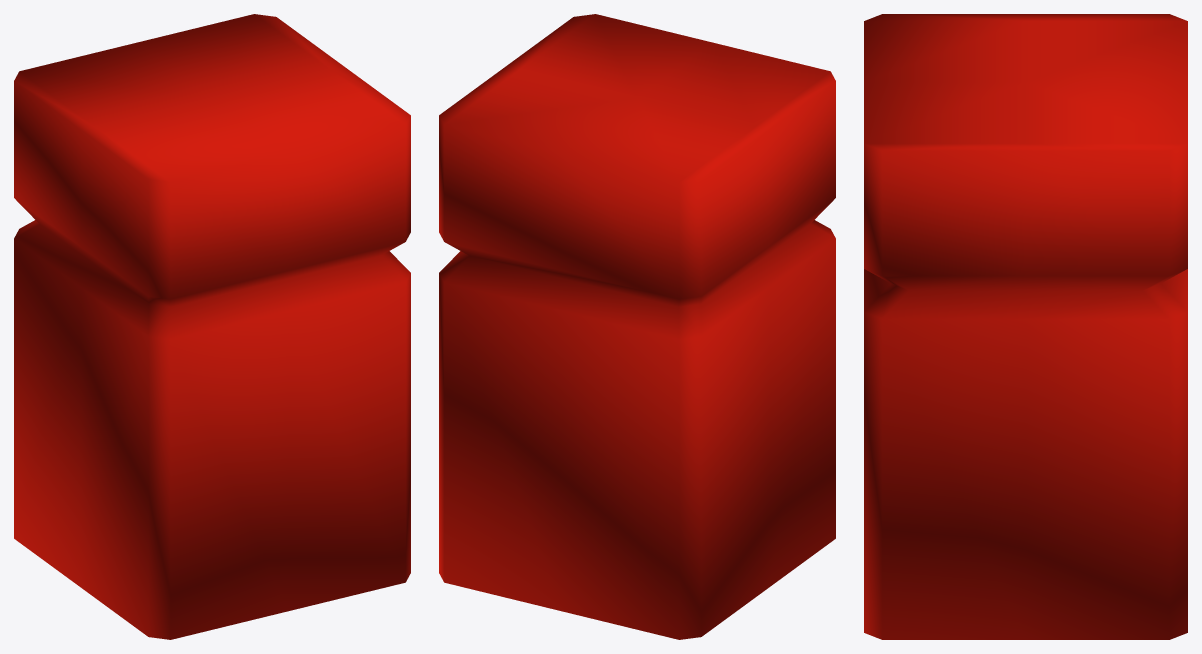
Rendered from IndBuilding1_Deco_IntColumn_Base.fbx.
3 views of the same model, side by side, from view 1: azimuth 30°, elevation 25°; view 2: azimuth 150°, elevation 25°; view 3: azimuth 270°, elevation 25° (orthographic). The views are drawn at different scales.
Visible parts, largest first — view 1: IndBuilding1_Deco_IntColumn_Base; view 2: IndBuilding1_Deco_IntColumn_Base; view 3: IndBuilding1_Deco_IntColumn_Base.
Boxes of the visible parts, box(x1,y1,x2,y2) form: IndBuilding1_Deco_IntColumn_Base: box(14, 14, 410, 639); IndBuilding1_Deco_IntColumn_Base: box(439, 14, 835, 639); IndBuilding1_Deco_IntColumn_Base: box(864, 14, 1187, 639).
Size of the model in its own units: 0.6 by 1 by 0.6.
